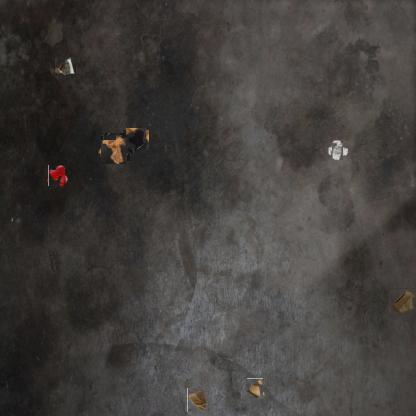dirty: (99, 134, 129, 162), (390, 288, 416, 314), (186, 389, 209, 412), (54, 56, 76, 76), (246, 380, 265, 398), (329, 142, 346, 158)
liquid: (124, 129, 148, 151), (48, 166, 66, 185)
